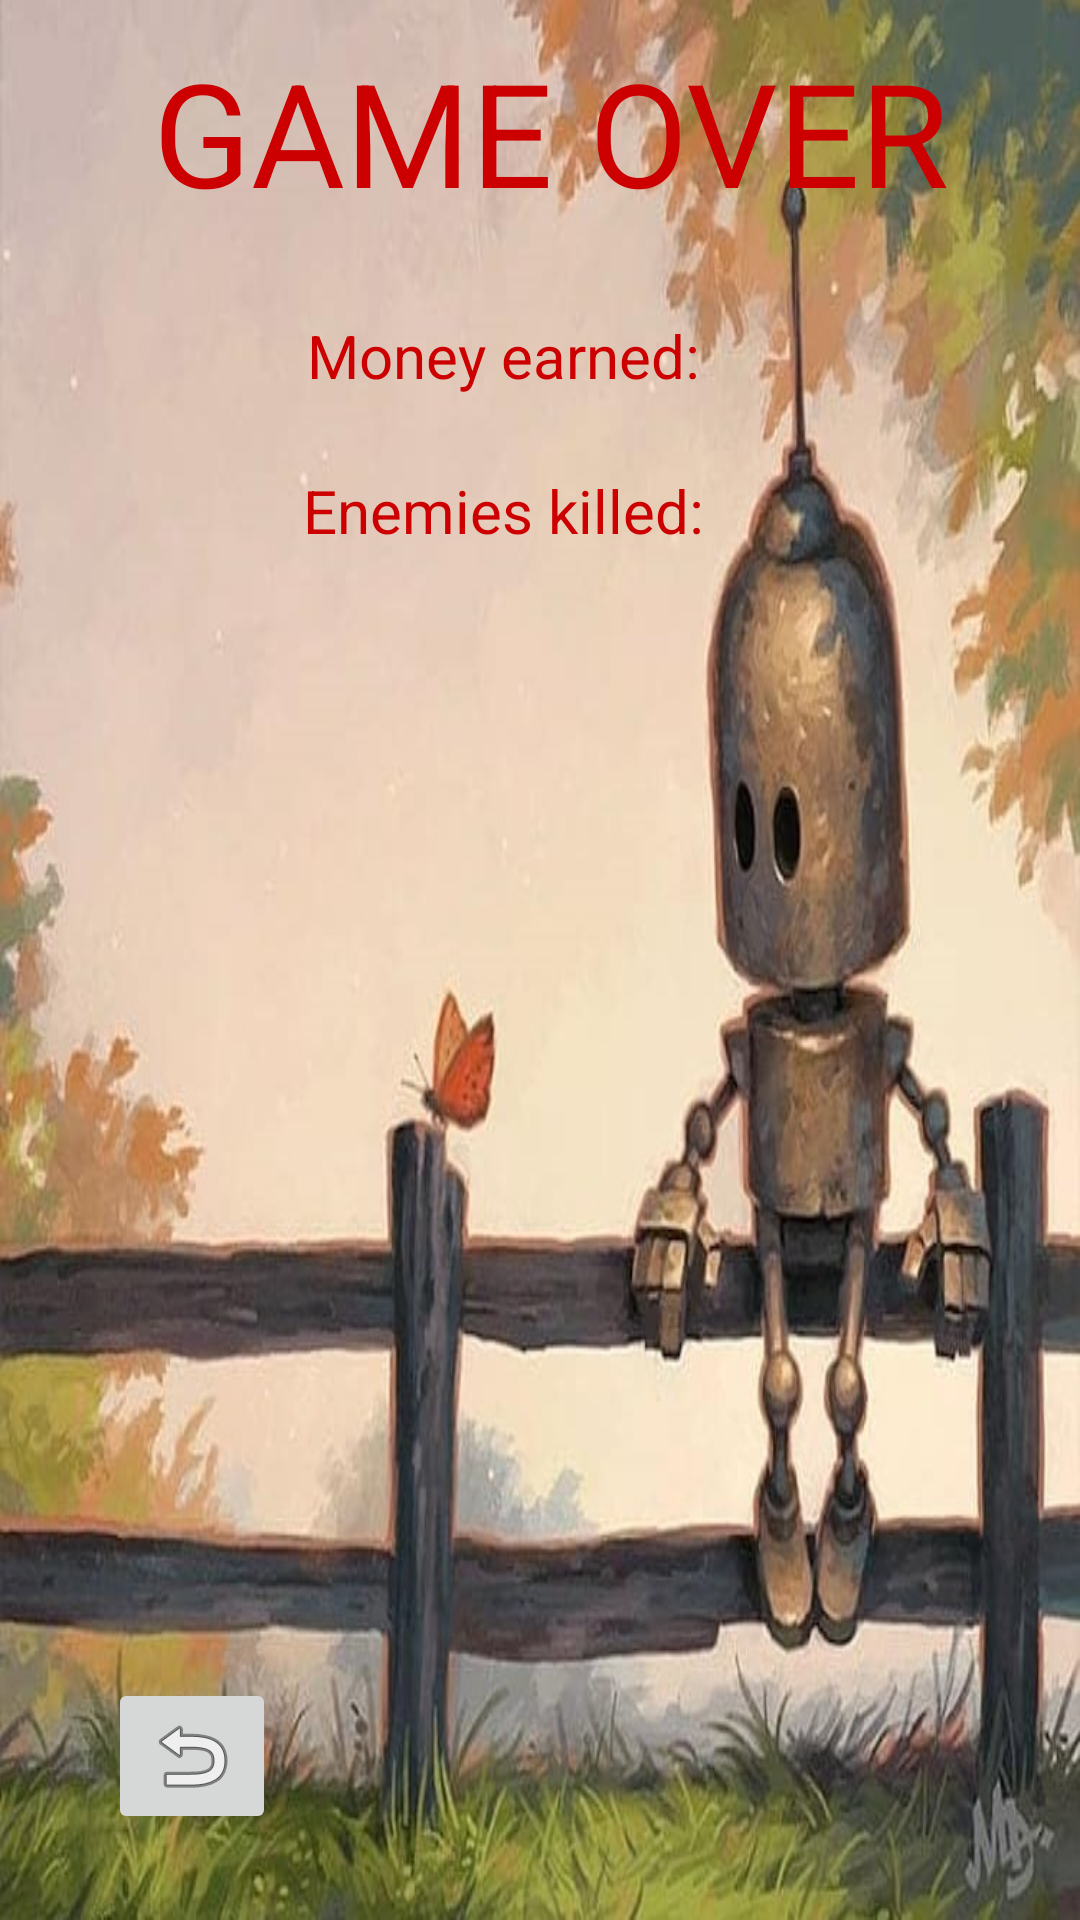

Where to tap for icons on this 1080 x 1920 app screen, as (x,y):
revert: (192,1756)
